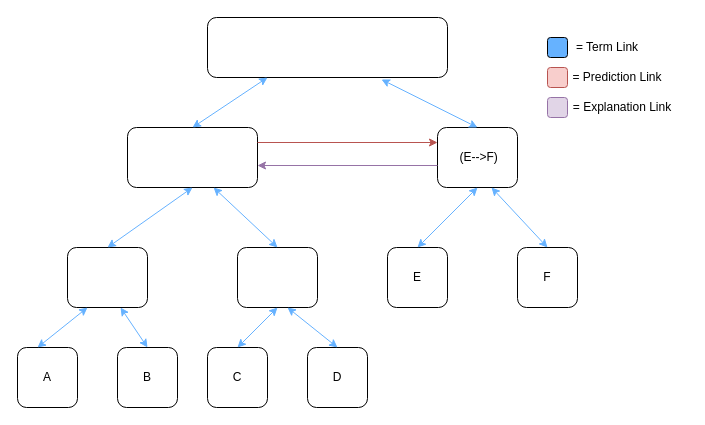
Some shapes in this 705 by 425 pixel diagram are drawn without their labels. Each missing label, with the centre of its shape:
(&&,(A-->B),(C-->D)): (x=192, y=157)
((&&,(A-->B),(C-->D)) ==> (E-->F)): (x=327, y=47)
(A-->B): (x=107, y=277)
(C-->D): (x=277, y=277)
